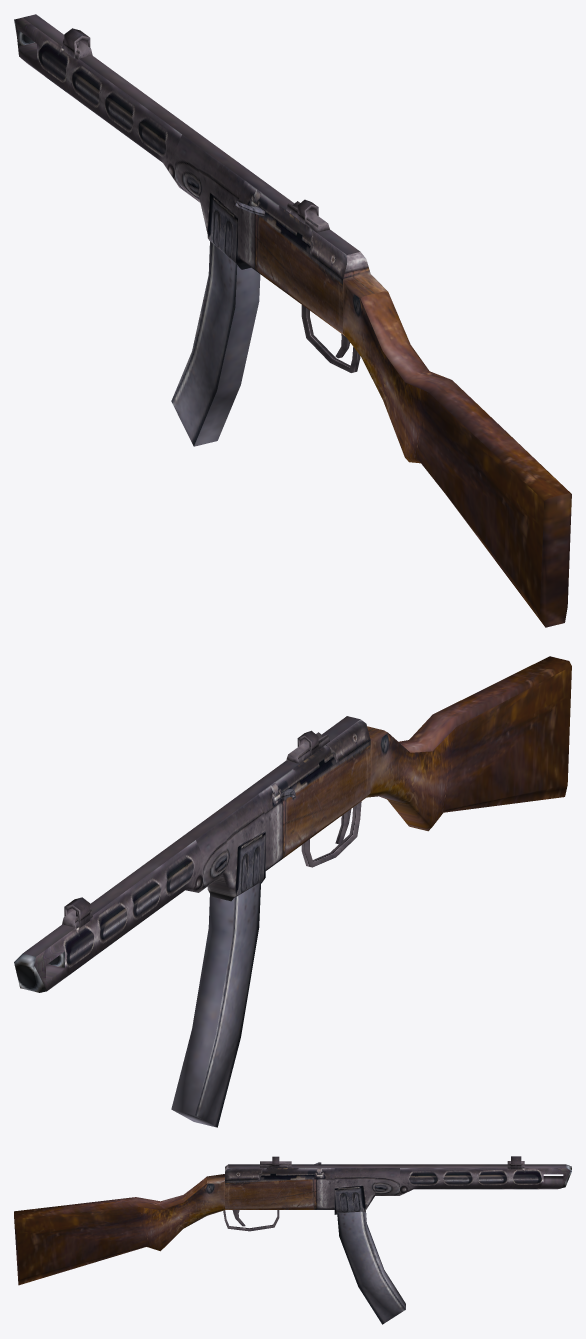
Rendered from PPSH.glb.
The picture shows the model from 3 angles, top to bottom: view 1: azimuth 30°, elevation 25°; view 2: azimuth 150°, elevation 25°; view 3: azimuth 270°, elevation 25°; orthographic projection. The views are drawn at different scales.
Parts seen in each view (by area): view 1: PPSH, Mag, Trigger Guard, Back Sight; view 2: PPSH, Mag, Trigger Guard, Back Sight, Front Sight; view 3: PPSH, Mag, Trigger Guard, Back Sight.
Boxes of the visible parts, x1=… form: PPSH: x1=14, y1=14, x2=571, y2=627; Mag: x1=171, y1=241, x2=260, y2=446; Trigger Guard: x1=301, y1=305, x2=360, y2=372; Back Sight: x1=286, y1=199, x2=329, y2=232; PPSH: x1=14, y1=656, x2=571, y2=992; Mag: x1=171, y1=882, x2=260, y2=1127; Trigger Guard: x1=301, y1=801, x2=361, y2=867; Back Sight: x1=286, y1=730, x2=329, y2=763; Front Sight: x1=62, y1=897, x2=92, y2=928; PPSH: x1=14, y1=1164, x2=571, y2=1285; Mag: x1=337, y1=1211, x2=405, y2=1324; Trigger Guard: x1=223, y1=1210, x2=279, y2=1231; Back Sight: x1=260, y1=1156, x2=291, y2=1167.
Size of the model in its own units: 0.2121 by 1.51 by 4.61.
1 material, 1 textured.
